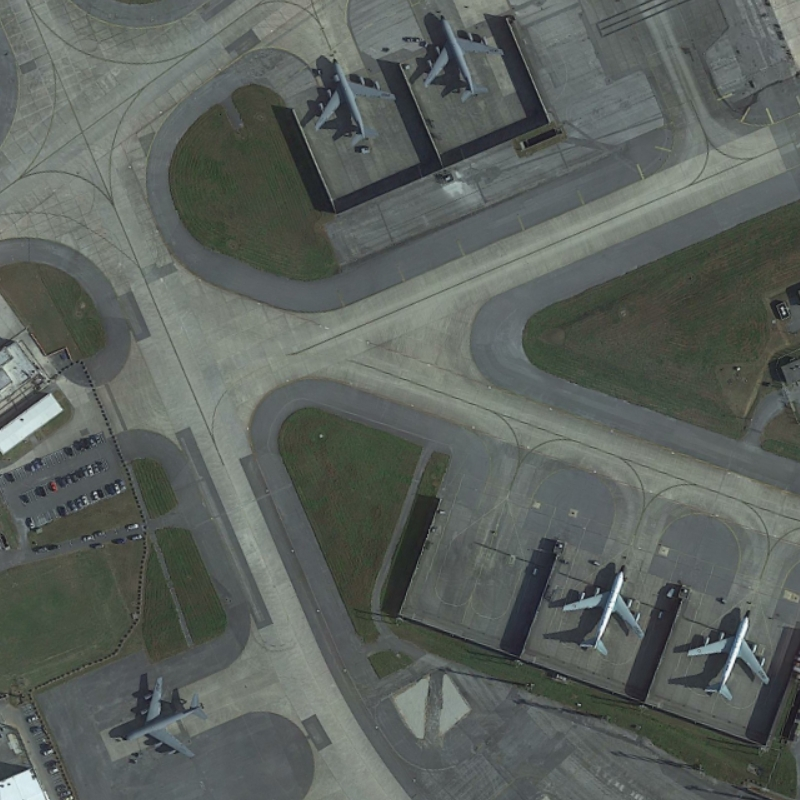A11: (554, 552, 650, 665), (678, 601, 776, 711)
A14: (304, 44, 404, 155), (409, 8, 506, 109), (115, 672, 210, 766)
